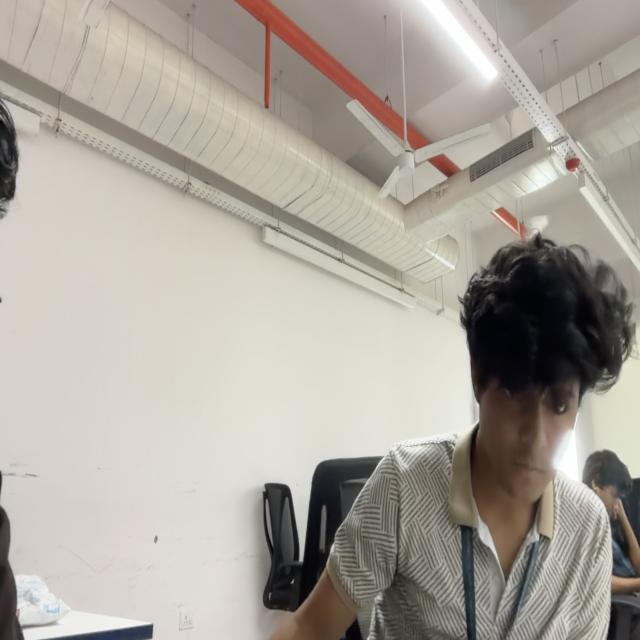kshitij: (462, 240, 632, 504)
